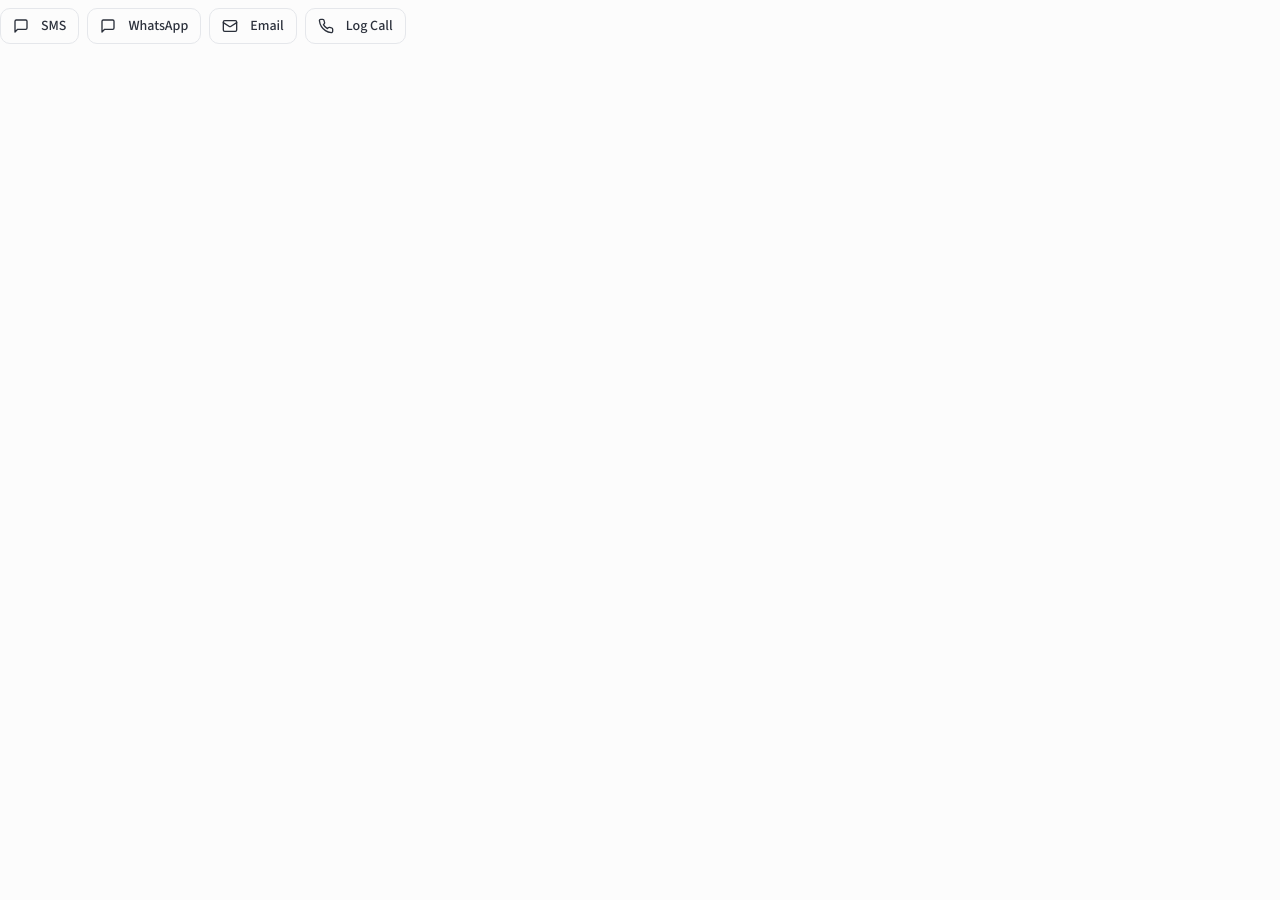
Scenario: the quick-contact controls › says so plainly when there is nowhere to send it
Step 1. Click the button with test id "quick-sms" → (40, 26), box [0,8,79,44]
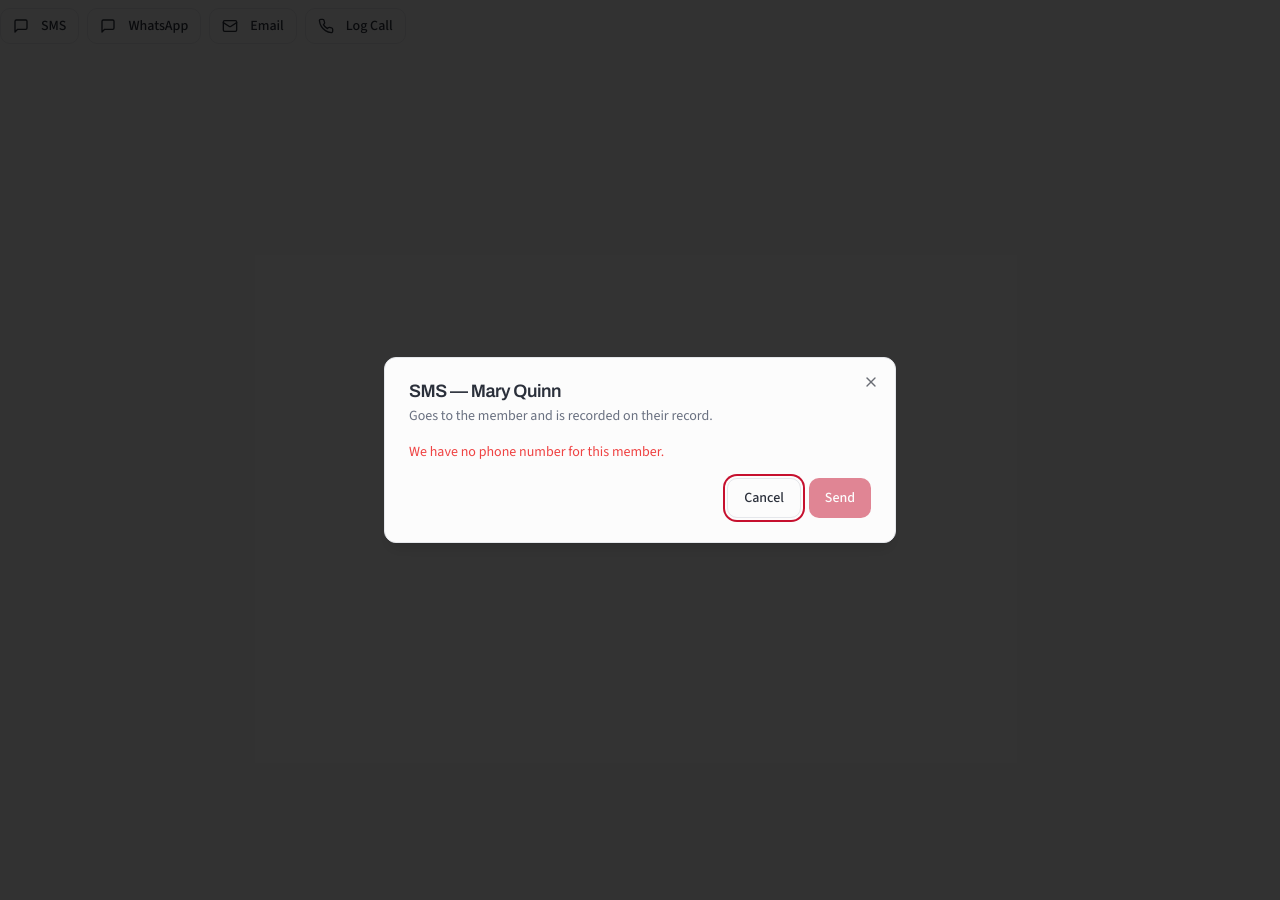
Expected: the text "We have no phone number for this member." is shown, [409,442,664,462]
Expected: the button with test id "quick-confirm" is disabled, [809,478,871,518]
